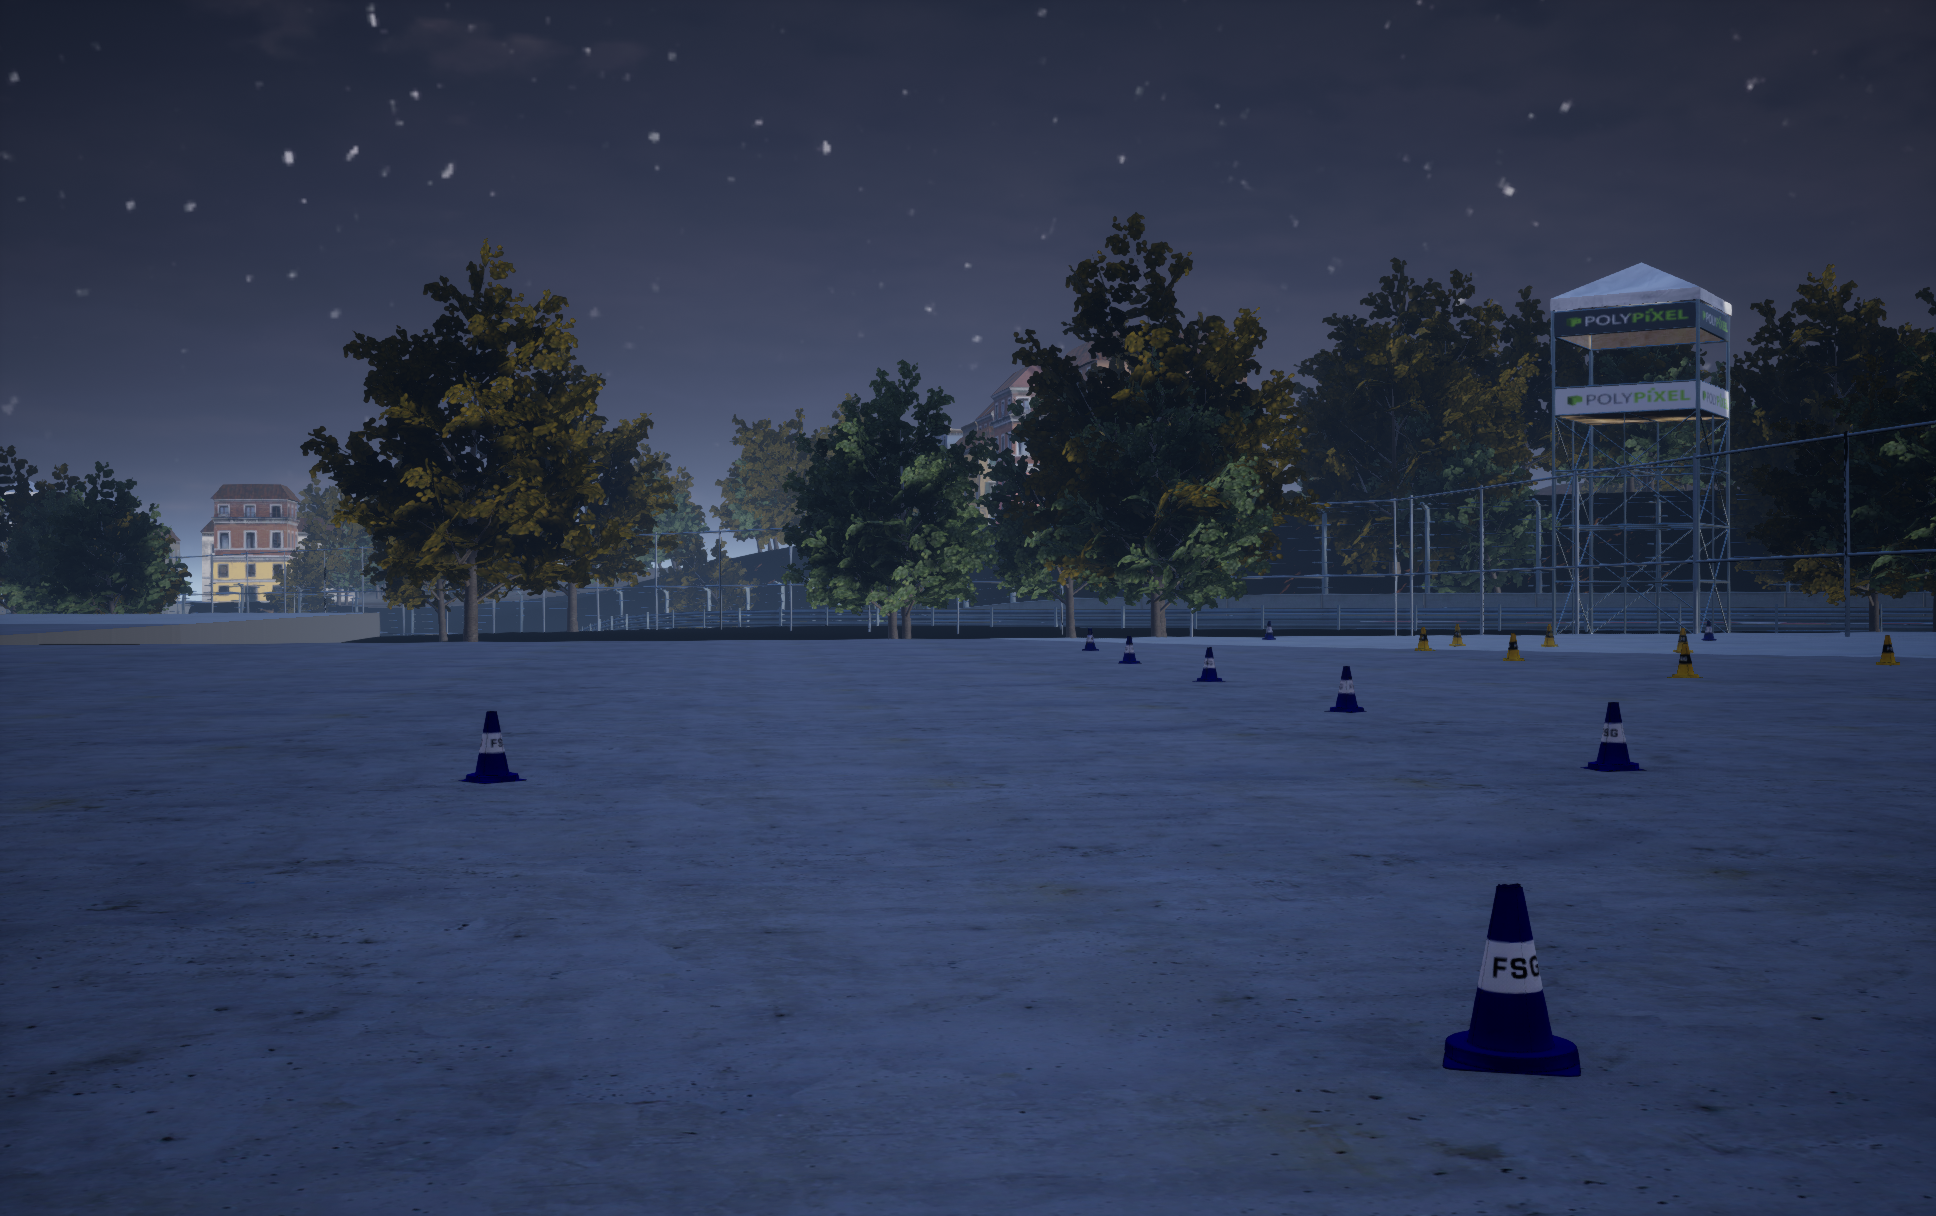blue: (1667, 643, 1702, 677), (1876, 635, 1900, 665), (1503, 633, 1524, 660), (1673, 628, 1694, 651), (1413, 628, 1434, 650), (1541, 623, 1558, 646), (1448, 623, 1465, 646)
yellow: (1441, 883, 1580, 1076), (458, 712, 525, 783), (1580, 702, 1646, 771), (1324, 665, 1366, 712), (1192, 647, 1224, 681), (1118, 636, 1140, 663), (1081, 628, 1098, 650), (1701, 621, 1716, 640), (1262, 621, 1275, 639)
